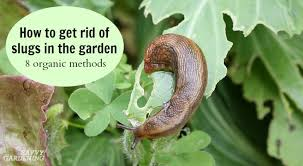slug: (128, 31, 207, 146)
